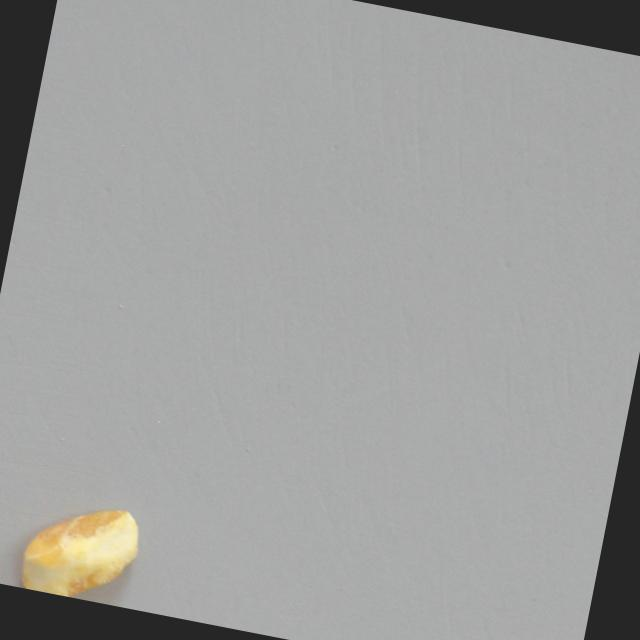pelicula: (15, 491, 146, 609)
